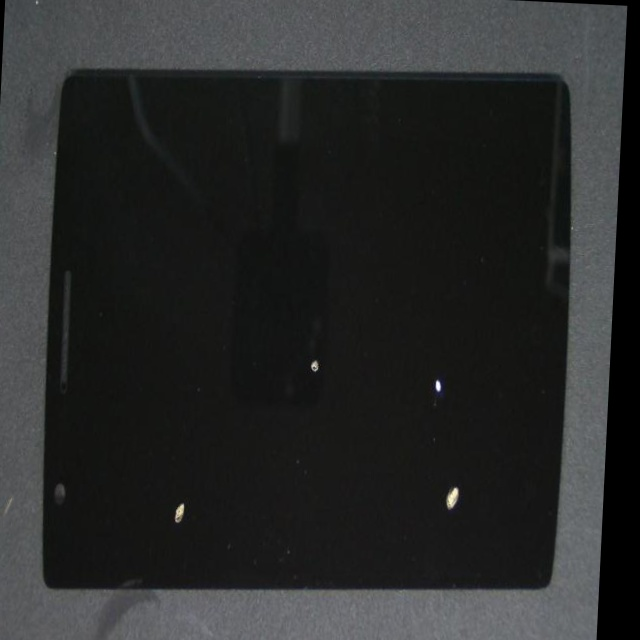stain: (221, 191, 617, 640), (214, 165, 619, 552), (155, 142, 480, 527), (75, 213, 281, 640)
